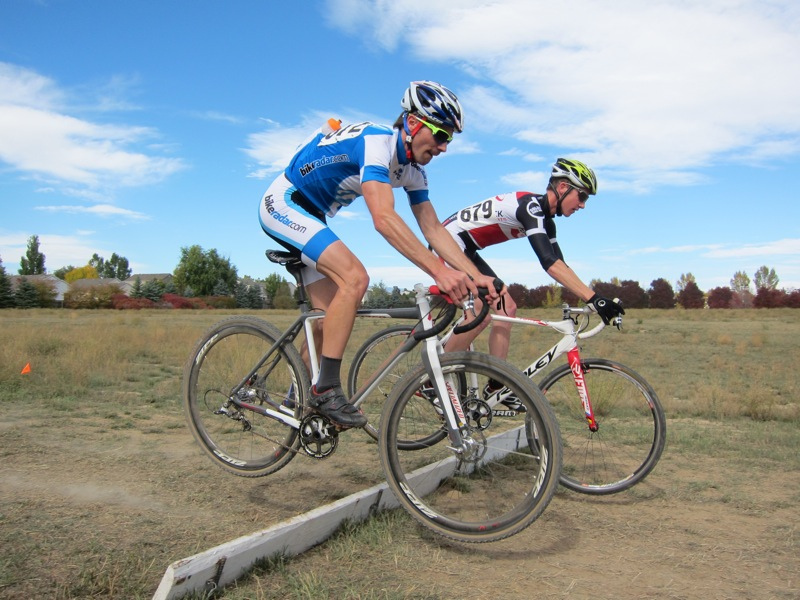helmet: (397, 76, 466, 132), (549, 153, 603, 195)
